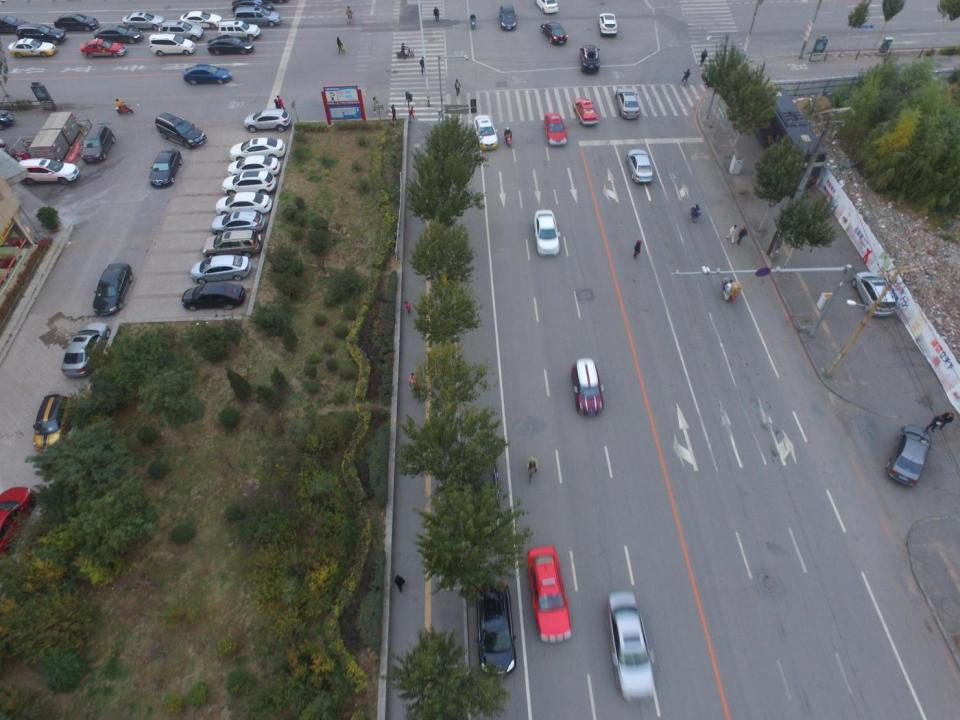car: (607, 589, 656, 702), (528, 547, 574, 643), (475, 581, 517, 679), (462, 459, 505, 546), (889, 424, 932, 485), (64, 323, 108, 378), (0, 482, 36, 547), (30, 392, 67, 451), (570, 358, 604, 419), (18, 156, 82, 188), (154, 109, 204, 149), (95, 260, 130, 316), (854, 273, 896, 319), (182, 282, 247, 310), (191, 252, 251, 282), (210, 211, 266, 237), (532, 210, 564, 255), (230, 138, 287, 160), (215, 190, 270, 212), (228, 156, 280, 179), (222, 172, 276, 194), (9, 37, 59, 60), (623, 149, 655, 184), (150, 150, 180, 187), (15, 21, 65, 43), (244, 109, 290, 132), (92, 26, 142, 46), (185, 64, 232, 85), (613, 88, 640, 123), (473, 116, 499, 152), (120, 10, 166, 30), (161, 19, 200, 42), (206, 37, 254, 55), (53, 14, 103, 31), (572, 98, 599, 128), (543, 114, 567, 147), (77, 38, 125, 54), (177, 9, 222, 25), (543, 21, 571, 46), (578, 46, 600, 76), (601, 13, 619, 35), (500, 6, 516, 30), (534, 0, 559, 15), (0, 14, 25, 29)
truck: (752, 84, 826, 194)
van: (81, 124, 114, 162), (235, 2, 281, 29), (206, 232, 258, 254), (149, 32, 195, 56), (216, 21, 259, 43)
